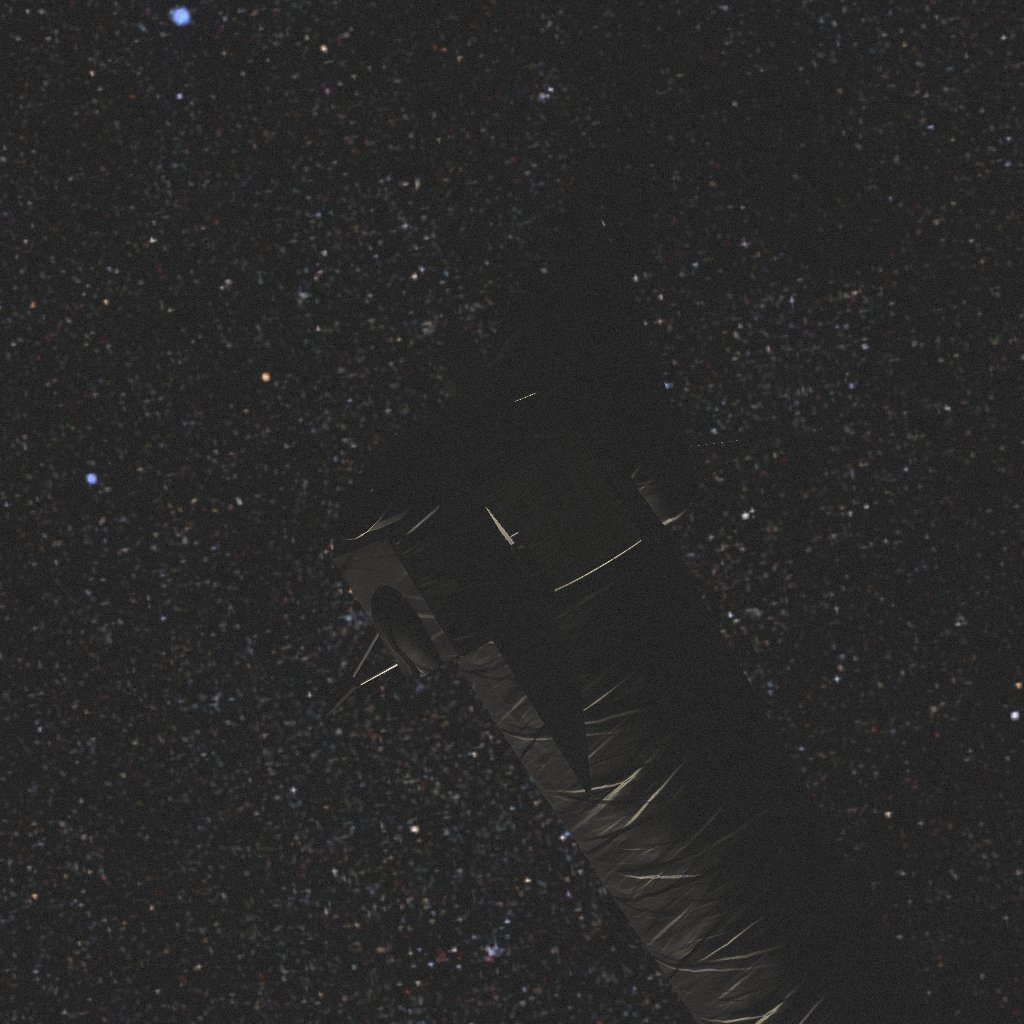xmm_newton: (326, 172, 936, 1024)
